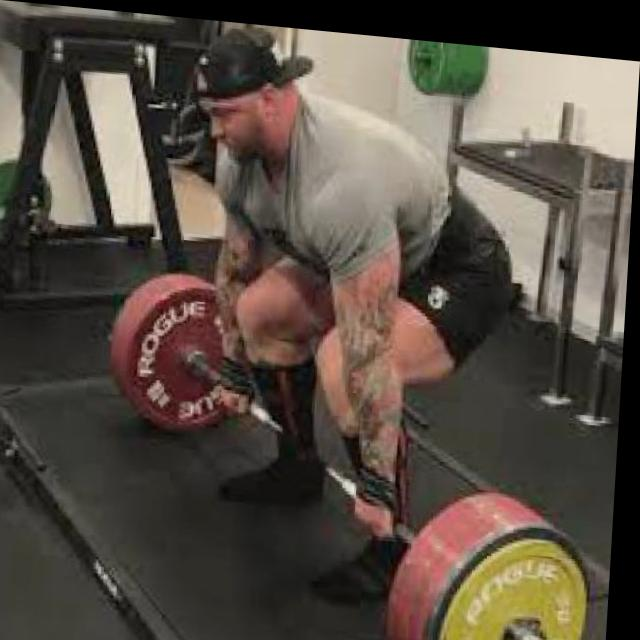barbell: (423, 500, 614, 640)
